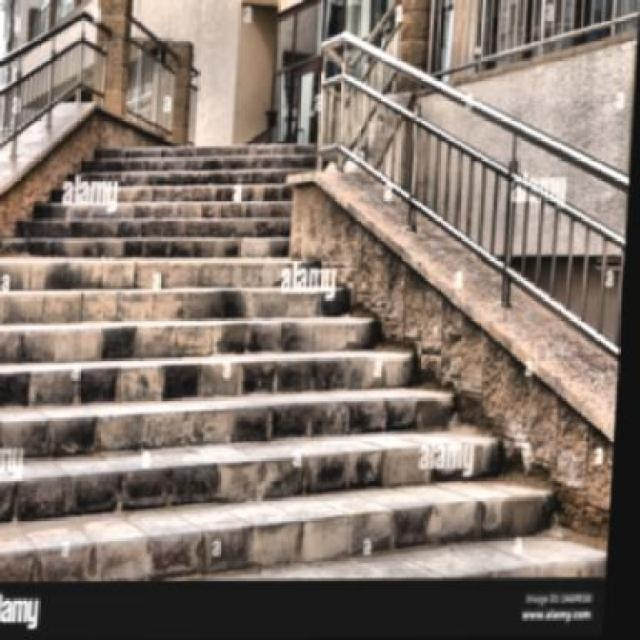stair: (0, 98, 552, 510)
